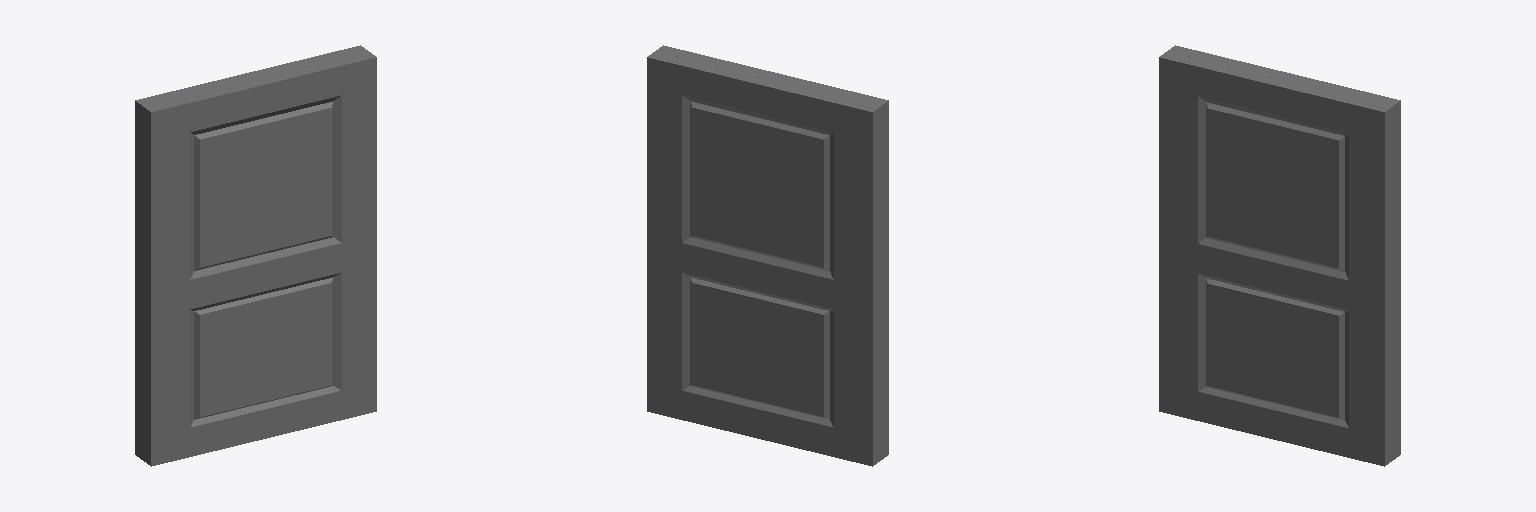
File: Door 1.obj
3 views of the same model, side by side, from view 1: azimuth 30°, elevation 25°; view 2: azimuth 150°, elevation 25°; view 3: azimuth 330°, elevation 25° (orthographic).
Parts seen in each view (by area): view 1: Door 1; view 2: Door 1; view 3: Door 1.
Boxes of the visible parts, <box> form: Door 1: <box>135,45,376,466</box>; Door 1: <box>647,45,888,466</box>; Door 1: <box>1159,45,1400,466</box>.
Size of the model in its own units: 2 by 3 by 0.25.